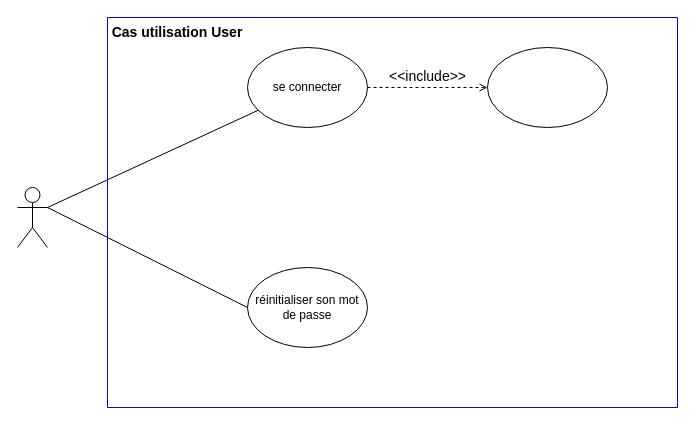
The diagram is 695 pixels wide and 425 high, and some of its shapes have lost their labels. The shapes that lost their labels are listed below. From the top down, each one's centre as x and y in pixels, then its label:
At [547,87]: "creer un compte".
At [32,217]: "User".
